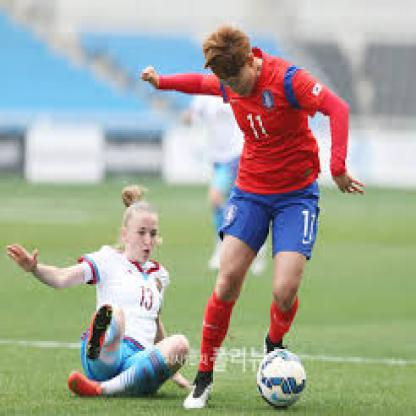Fall_Down: (6, 184, 211, 402)
